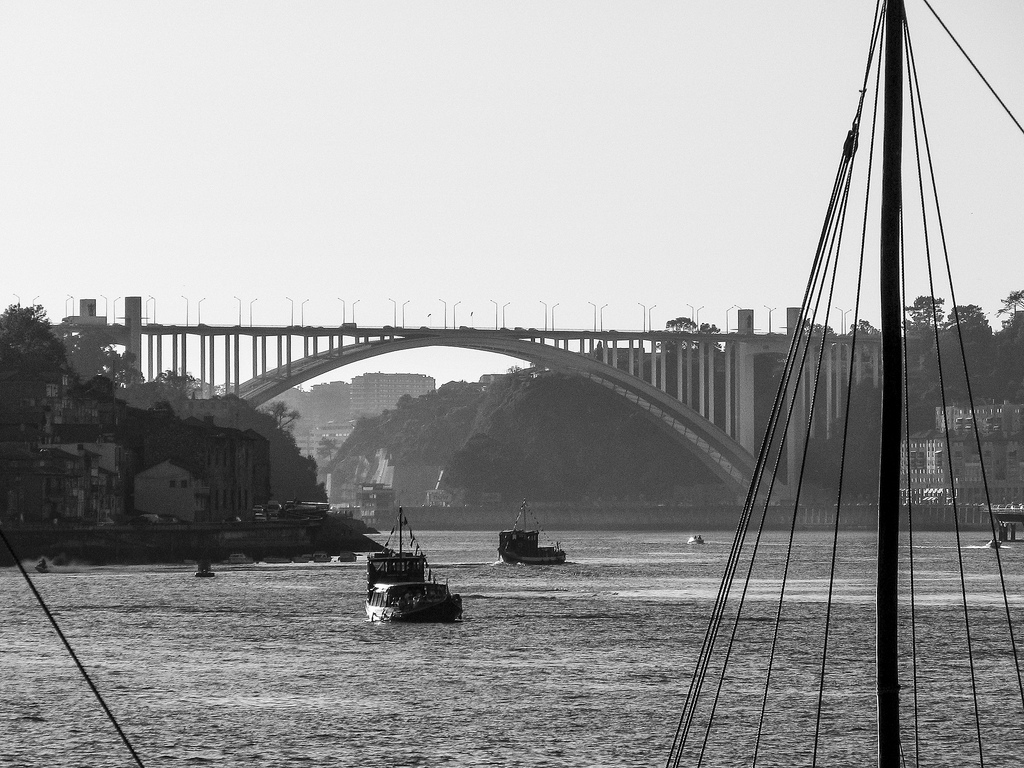arrabida: (47, 295, 918, 505)
